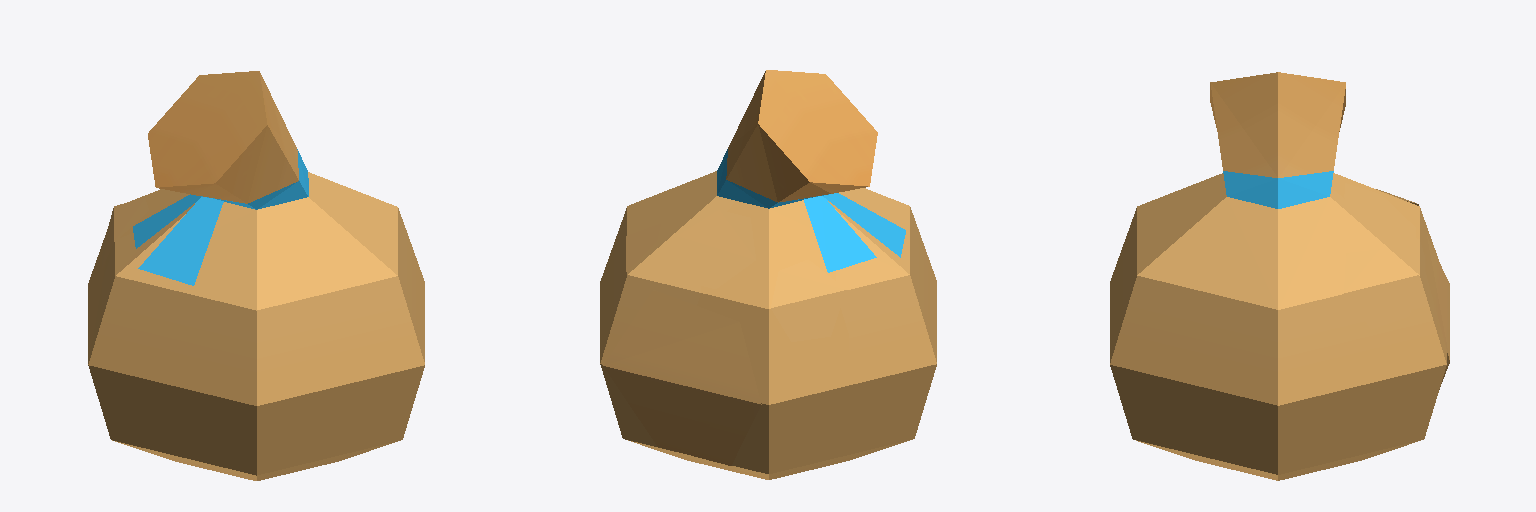
The picture shows the model from 3 angles: view 1: azimuth 30°, elevation 25°; view 2: azimuth 150°, elevation 25°; view 3: azimuth 270°, elevation 25°; orthographic projection.
Parts seen in each view (by area): view 1: Small1; view 2: Small1; view 3: Small1.
Part boxes in pixels (x1,y1,x2,y2): Small1: (88,71,424,480); Small1: (600,70,936,479); Small1: (1110,72,1449,480).
Size of the model in its own units: 3.18 by 3.34 by 2.78.
Materials: 1 (1 with a texture image).